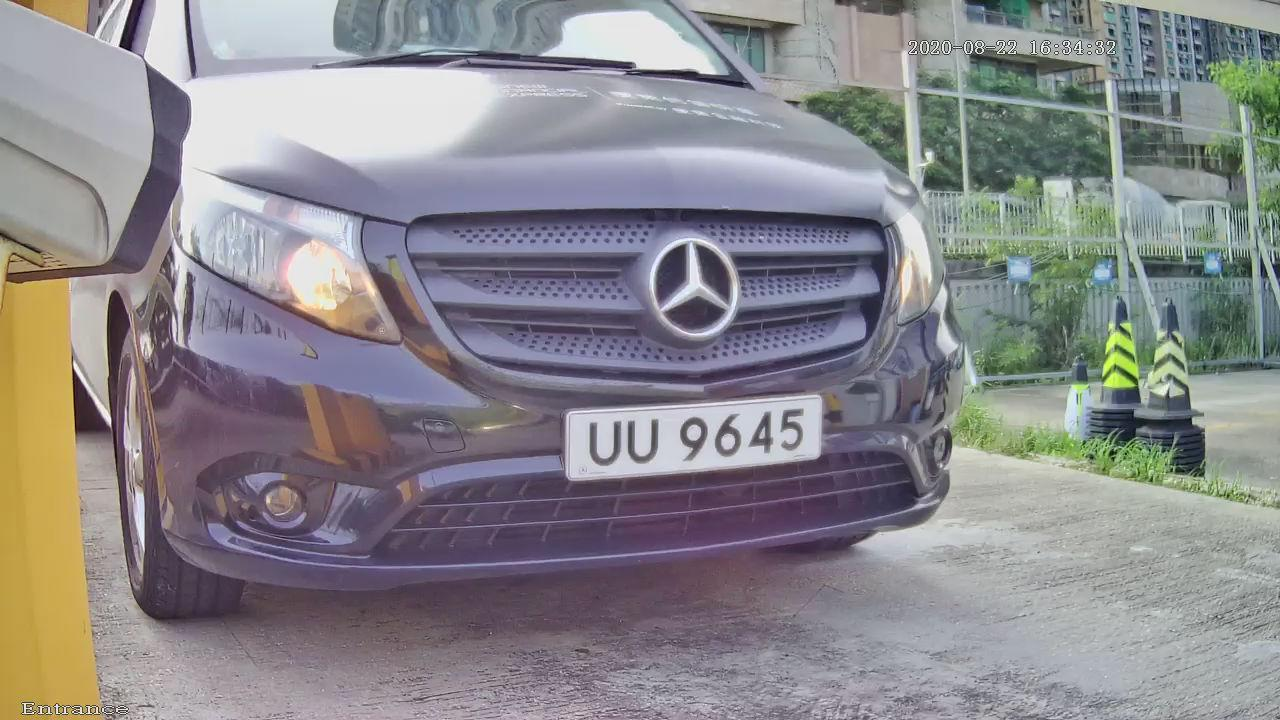Car: (18, 7, 1029, 659)
License Plate: (555, 380, 841, 489)
